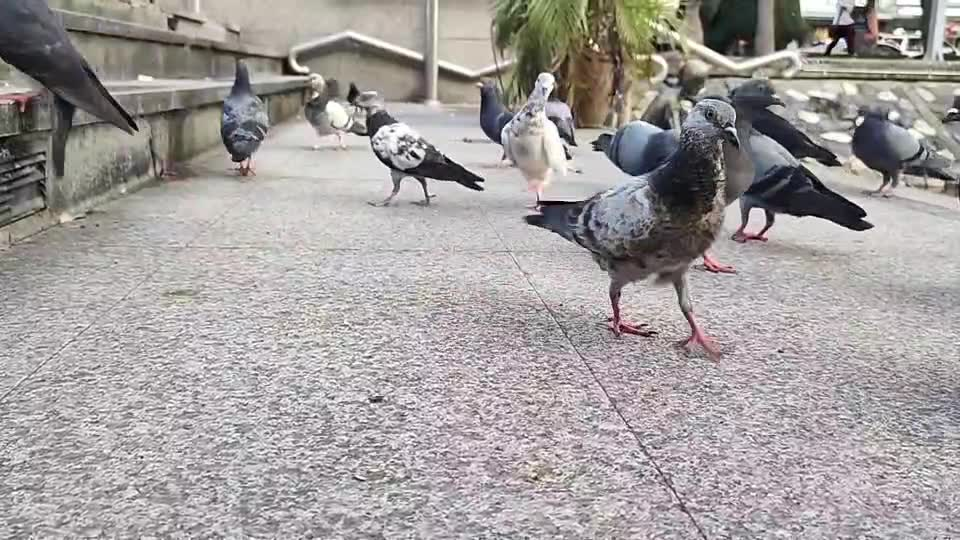Pigeon: (523, 97, 744, 364), (0, 0, 139, 176), (345, 81, 485, 207), (730, 162, 874, 243), (727, 76, 842, 167), (500, 71, 570, 210), (847, 103, 928, 198), (219, 58, 270, 176), (303, 72, 369, 151)
